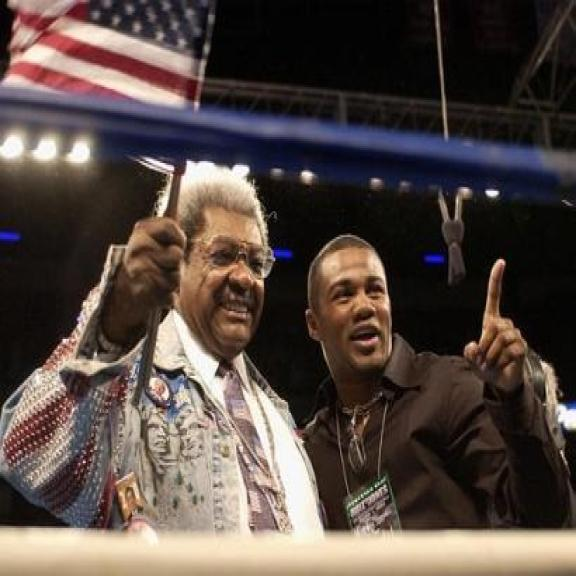face: (167, 209, 271, 352), (302, 258, 397, 380)
